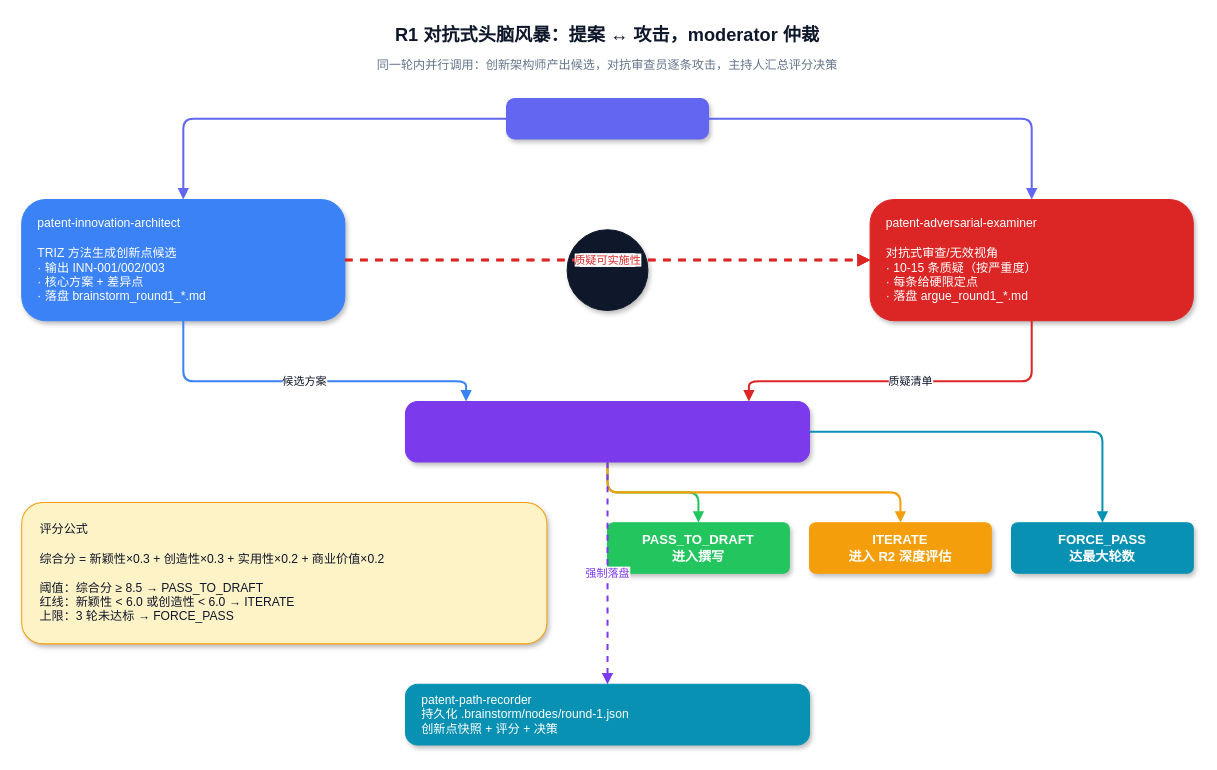
The diagram is 1217 pixels wide and 770 high, and some of its shapes have lost their labels. Here are the shapes that lost their labels. From the top down, the centre of each, then its label:
At pixel 608 119: "Archimedes (编排)".
At pixel 608 271: "VS".
At pixel 608 432: "patent-brainstorm-moderator (主持人) 汇总评分 · 阈值判断 · 决策输出".
